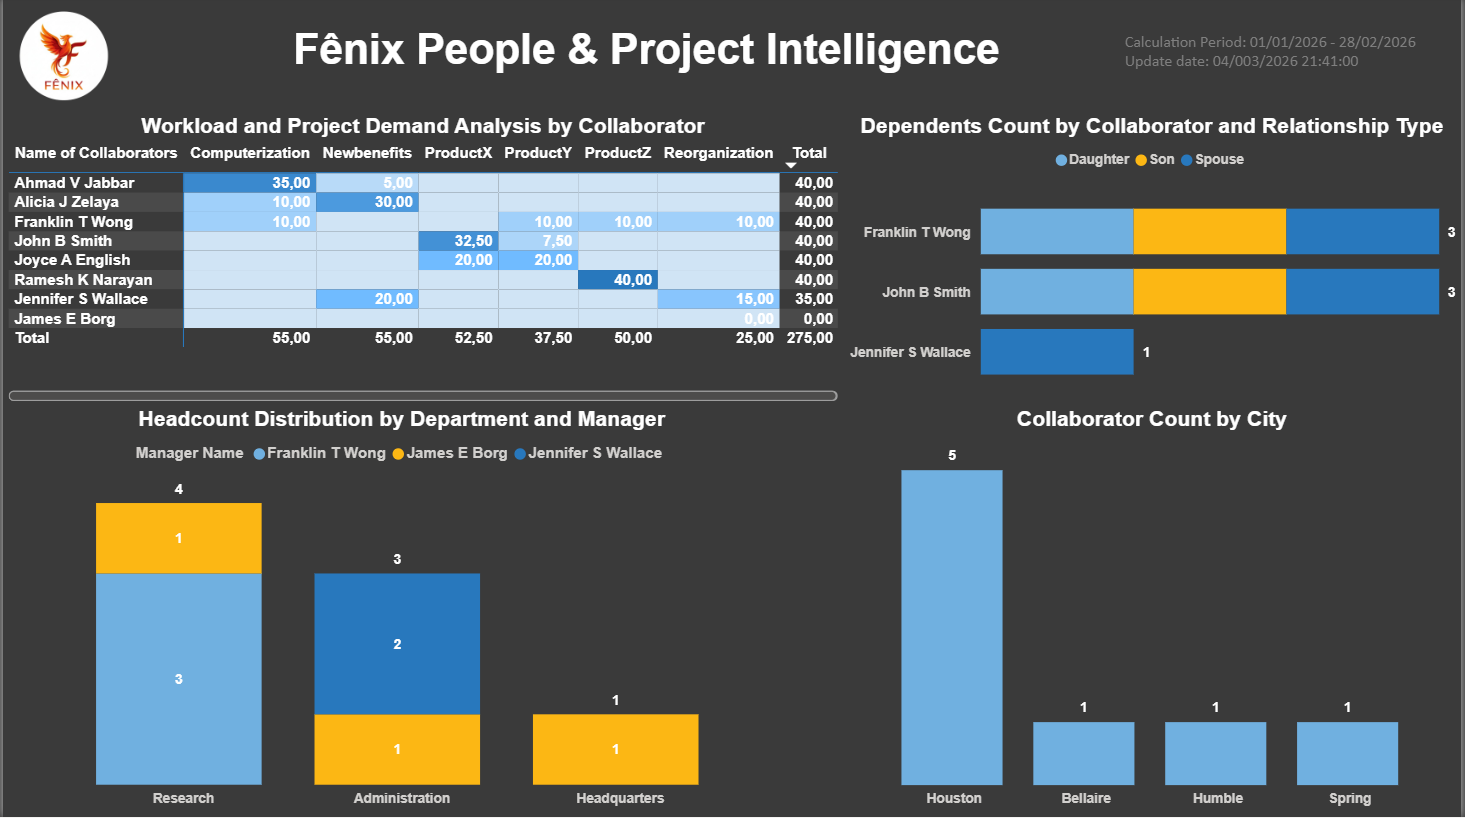

The page's visual inventory and layout, read from the dashboard file:
{"tool":"powerbi","page":{"name":"Workforce Insights","canvas":[1280,720],"ordinal":0},"visuals":[{"type":"pivotTable","title":"Workload and Project Demand Analysis by Collaborator","fields":{"Rows":["Employee.Name of Collaborators"],"Columns":["Project.Project Name"],"Values":["Sum(Works_on.Worked Hours)"]},"box":[0,102.9,737.7,257.1],"z":0},{"type":"columnChart","title":"Headcount Distribution by Department and Manager","fields":{"Y":["Count(Employee.Name of Collaborators)"],"Category":["Department.Department Name"],"Series":["Employee.Manager Name"]},"box":[0,360,700.5,360],"z":1000},{"type":"barChart","title":"Dependents Count by Collaborator and Relationship Type","fields":{"Category":["Employee.Name of Collaborators"],"Y":["CountNonNull(Dependent.Dependent Name)"],"Series":["Dependent.Relationship"]},"box":[737.7,102.9,542.7,257.1],"z":2000},{"type":"columnChart","title":"Collaborator Count by City","fields":{"Category":["Employee.City"],"Y":["CountNonNull(Employee.Name of Collaborators)"]},"box":[737.7,360,542.7,360],"z":3000},{"type":"textbox","box":[179.1,20.2,771.8,62.3],"z":4000},{"type":"image","box":[0,0,107.1,102.7],"z":5000},{"type":"textbox","box":[979.9,25.5,300.3,51.8],"z":6000}]}

Visuals, with their boxes in screenshot pixels (x1, y1, x2, y2), scaled from the page's 1280x720 canvas onto the 1465x818 screenshot:
"Workload and Project Demand Analysis by Collaborator" pivotTable: [0,117,844,409]
"Headcount Distribution by Department and Manager" columnChart: [0,409,802,817]
"Dependents Count by Collaborator and Relationship Type" barChart: [844,117,1464,409]
"Collaborator Count by City" columnChart: [844,409,1464,817]
textbox: [205,23,1088,94]
image: [0,0,123,117]
textbox: [1122,29,1464,88]
